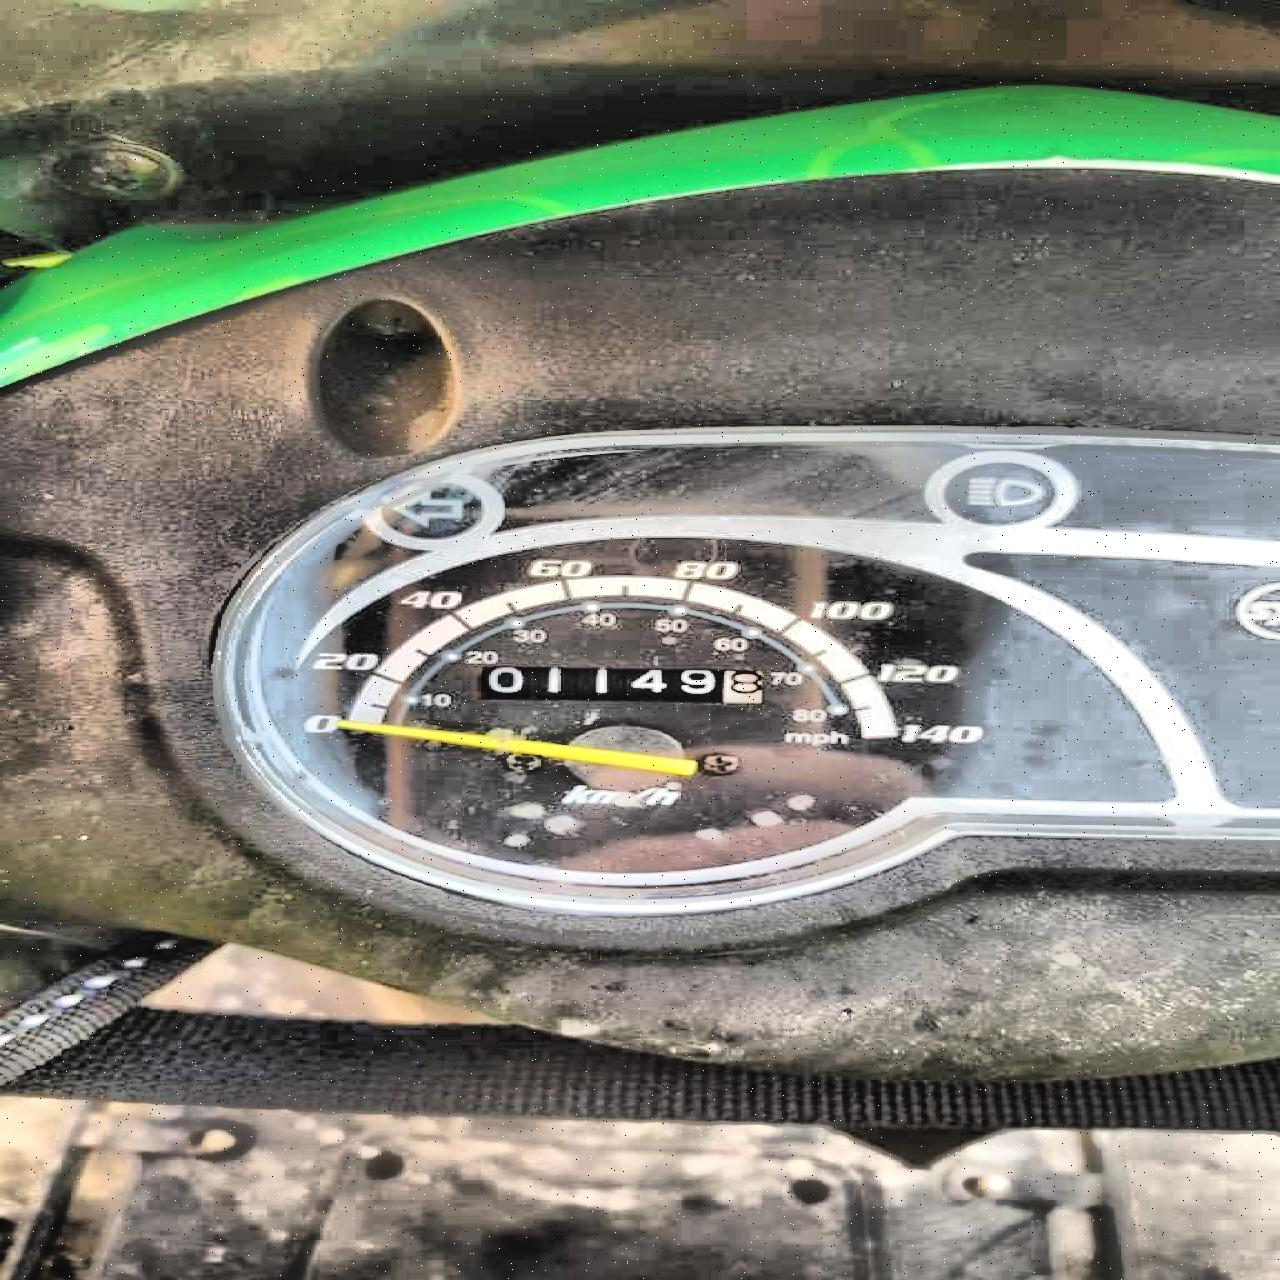0: (484, 666, 523, 693)
1: (585, 667, 613, 694), (539, 667, 564, 693)
4: (625, 667, 667, 693)
8: (727, 670, 761, 694)
9: (673, 668, 717, 694)
odometer: (469, 662, 769, 706)
